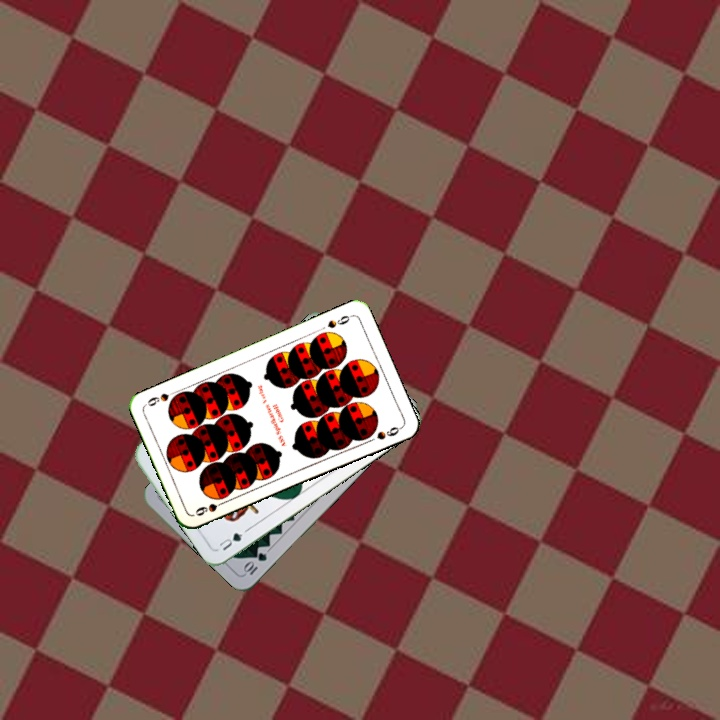G10: (239, 548, 270, 578)
GU: (215, 529, 245, 553)
S9: (191, 496, 230, 519), (323, 310, 355, 331)
